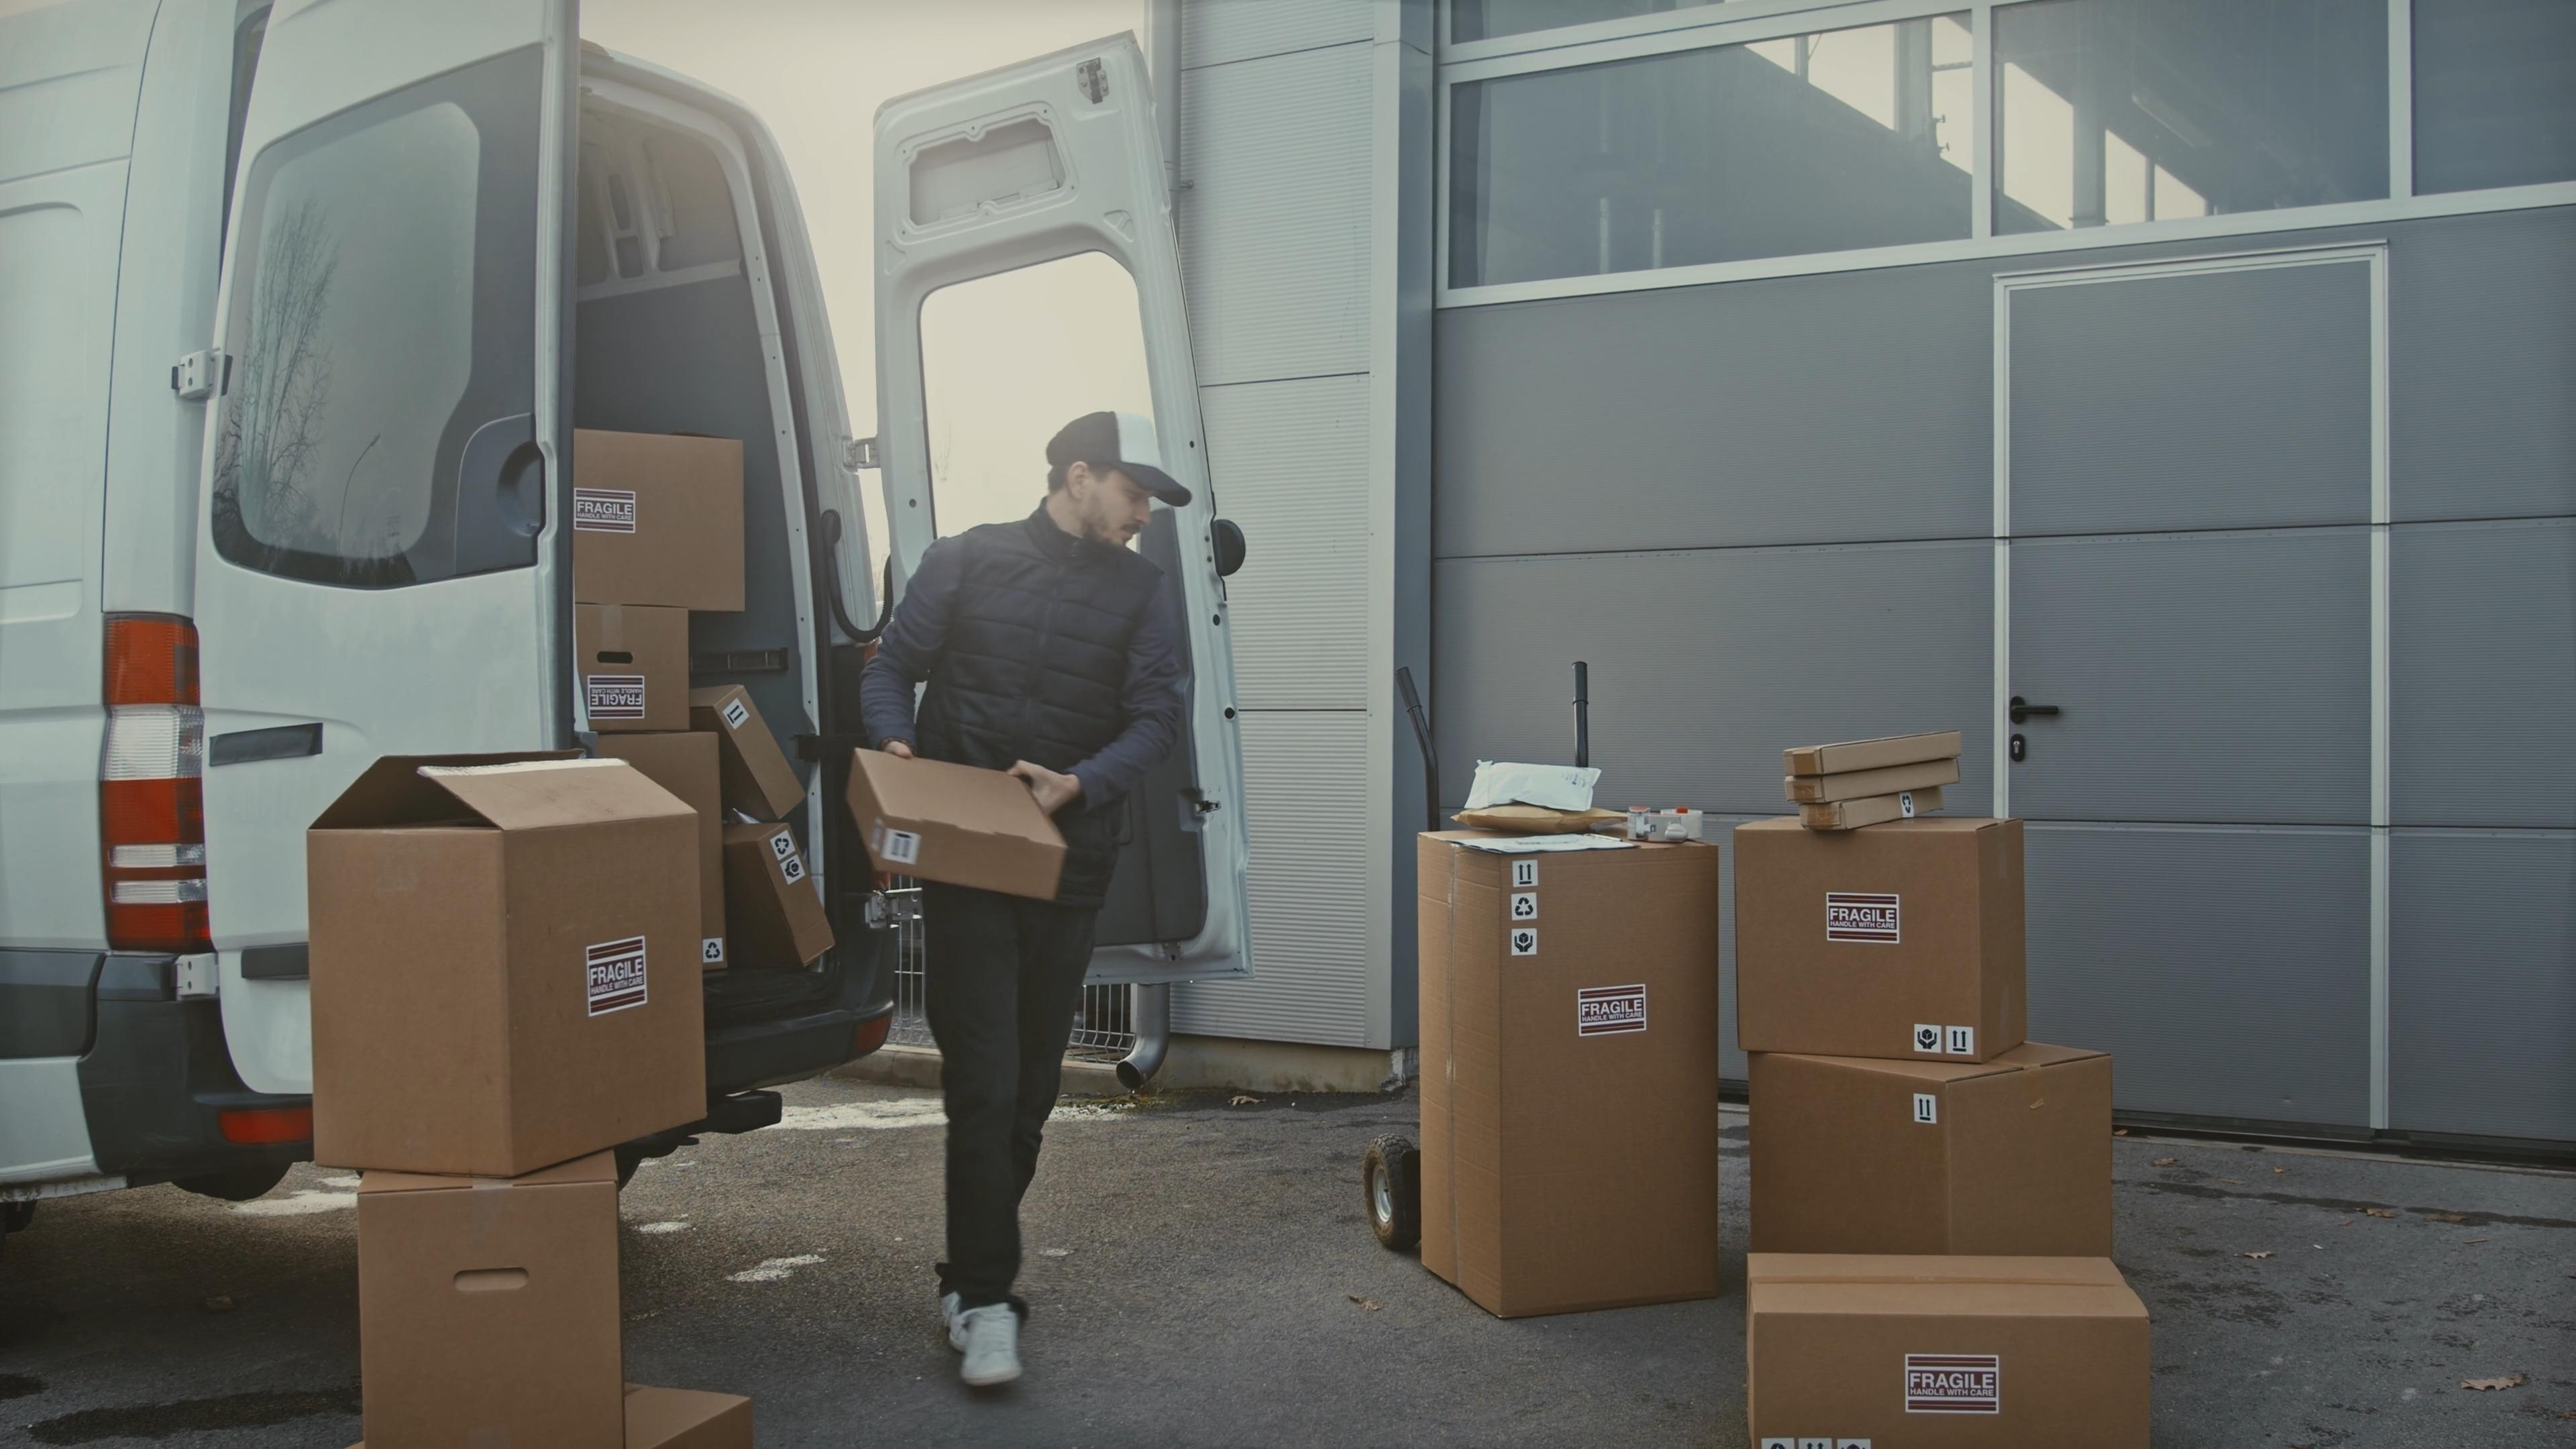-: (310, 752, 713, 1168), (1426, 826, 1721, 1327), (1744, 1254, 2148, 1449), (356, 1178, 635, 1449), (1737, 805, 2019, 1060), (1771, 1058, 2105, 1267), (846, 741, 1076, 908), (571, 423, 750, 614), (584, 614, 694, 736)
